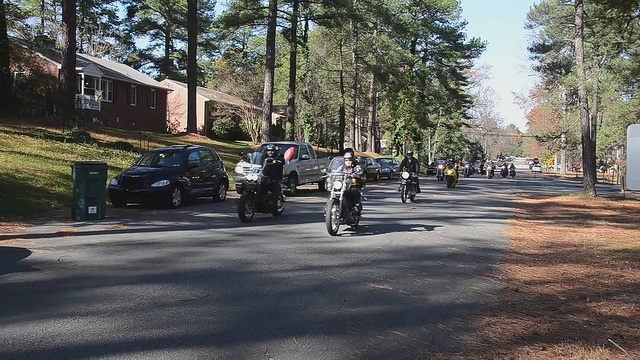non-vehicle: (316, 164, 368, 237), (238, 151, 290, 221), (396, 171, 418, 202), (435, 159, 449, 181), (443, 170, 456, 189), (500, 165, 508, 179), (488, 165, 495, 178), (463, 160, 468, 178), (509, 167, 516, 177)
